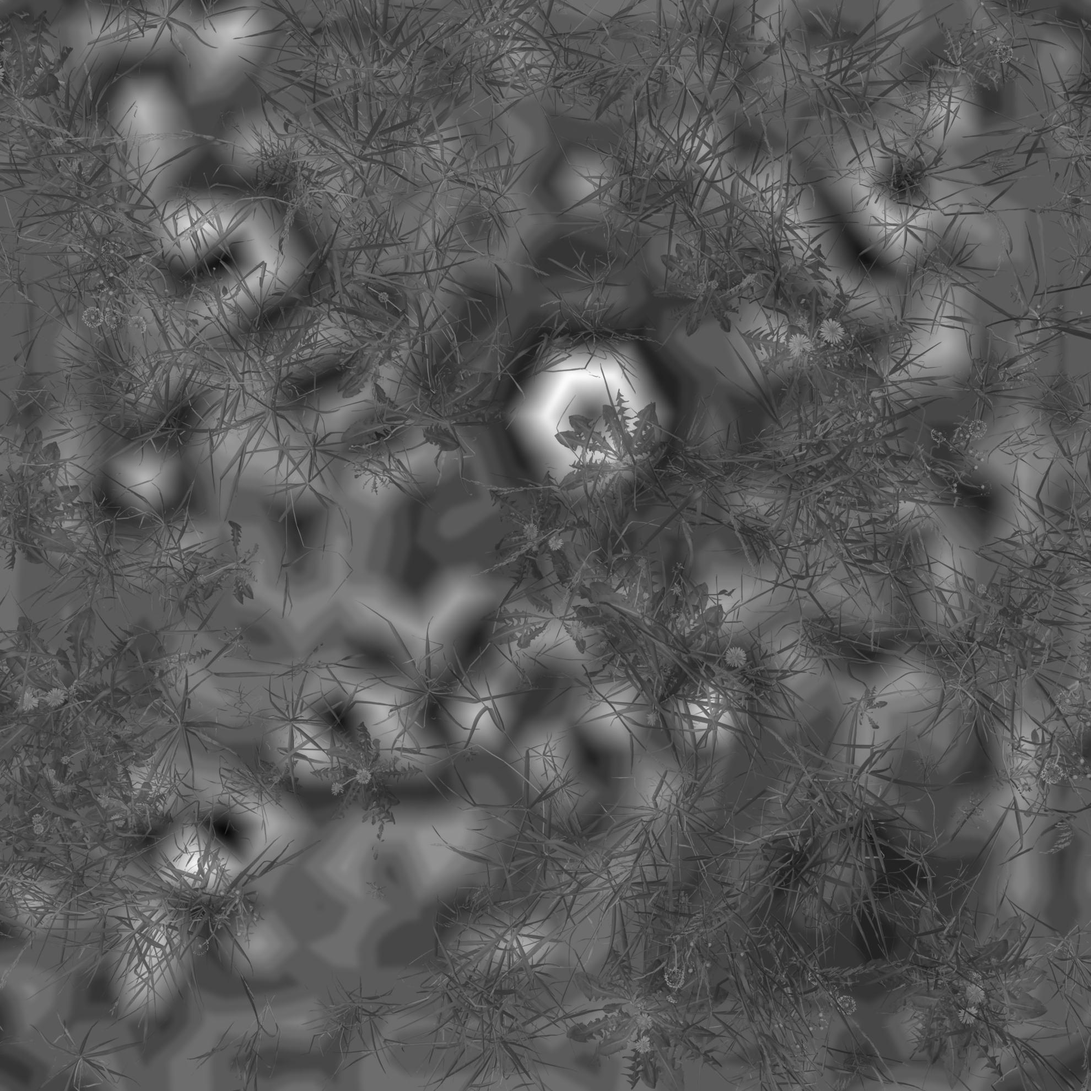landmine: (494, 324, 675, 508)
